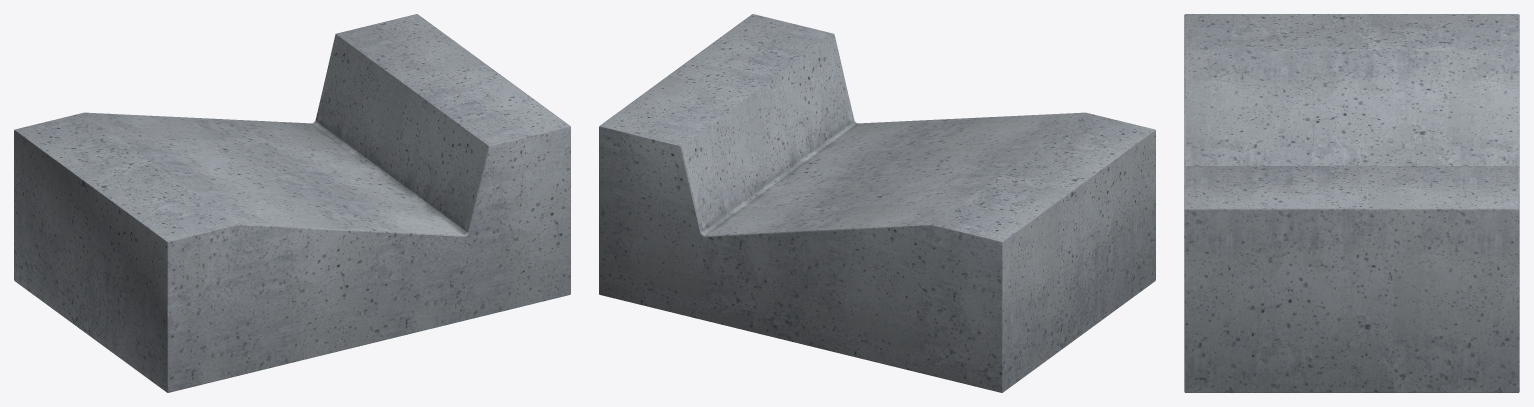
File: Korytko Trojkatne.glb
3 renders of one model, left to right at view 1: azimuth 30°, elevation 25°; view 2: azimuth 150°, elevation 25°; view 3: azimuth 270°, elevation 25°, orthographic. The views are drawn at different scales.
Visible parts, largest first — view 1: Korytko_Trojkatne; view 2: Korytko_Trojkatne; view 3: Korytko_Trojkatne.
Boxes of the visible parts, left/top/right/bottom form: Korytko_Trojkatne: left=14, top=14, right=570, bottom=392; Korytko_Trojkatne: left=599, top=14, right=1155, bottom=392; Korytko_Trojkatne: left=1184, top=14, right=1519, bottom=392.
Bounding box in the file's own units: 0.8725 × 0.349 × 0.5759.
Materials: 1 (1 with a texture image).
